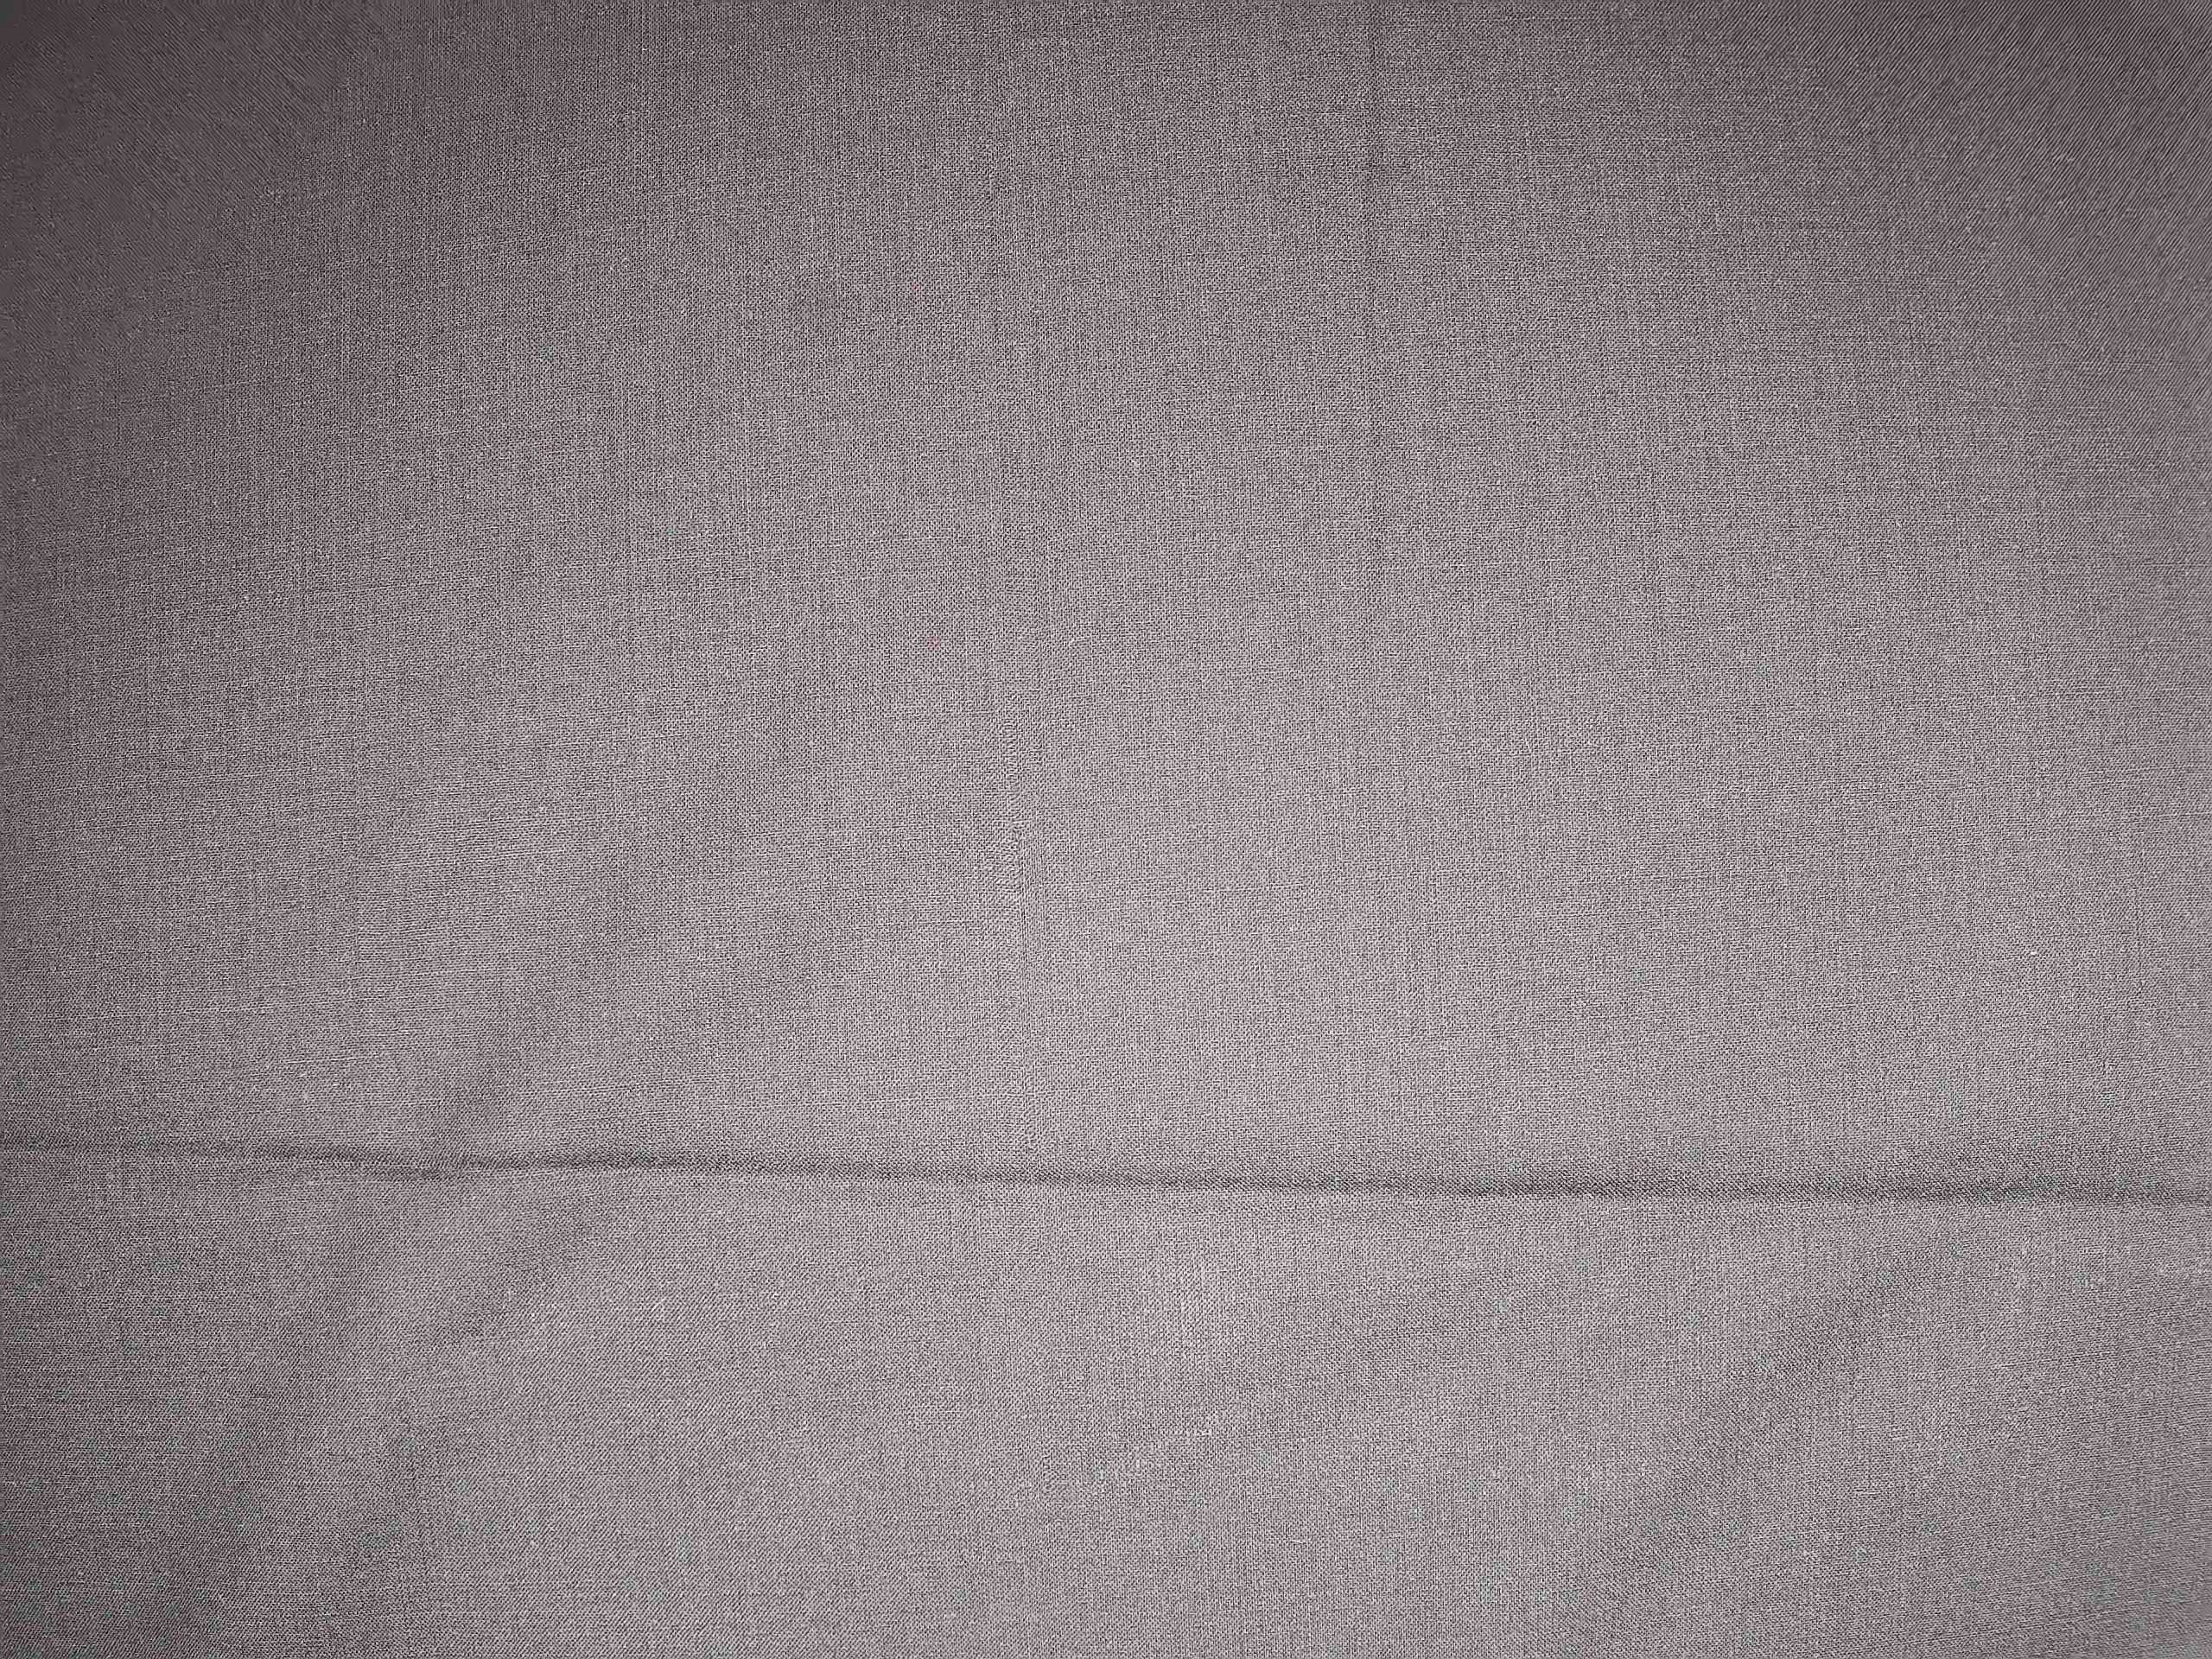hanging-warp: (986, 666, 1054, 1178)
